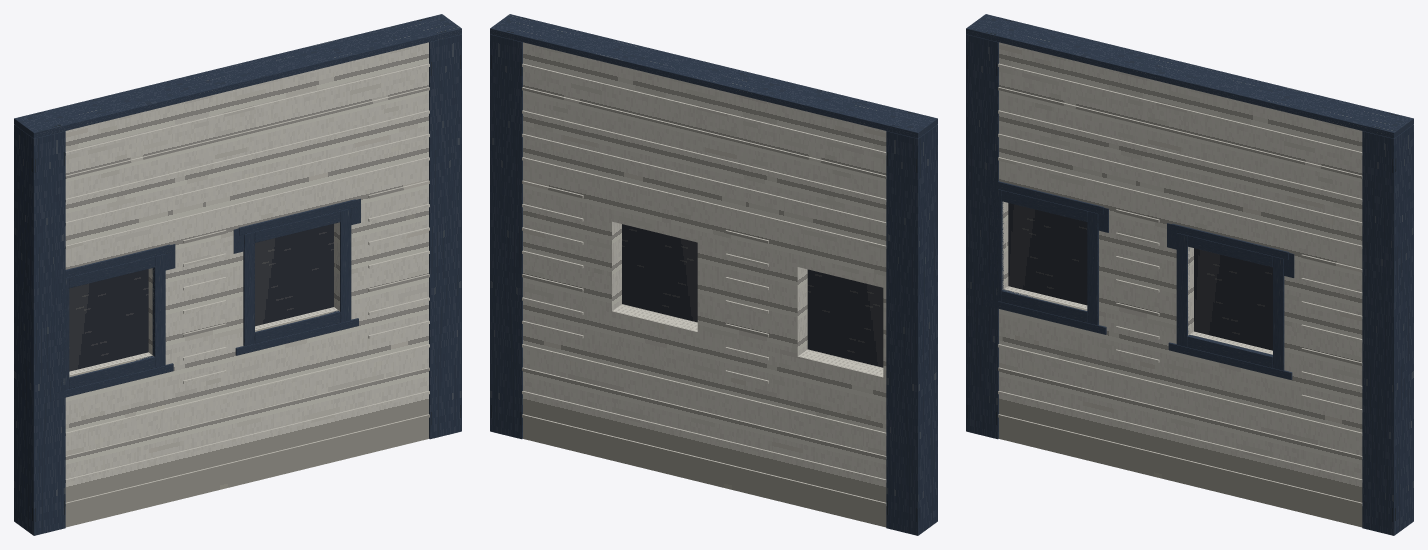
The model's file is house_05_wall_window.glb.
3 views of the same model, side by side, from view 1: azimuth 30°, elevation 25°; view 2: azimuth 150°, elevation 25°; view 3: azimuth 330°, elevation 25° (orthographic).
Visible parts, largest first — view 1: house_05_wall_window; view 2: house_05_wall_window; view 3: house_05_wall_window.
Part boxes in pixels (x1,y1,x2,y2): house_05_wall_window: (14,14,461,535); house_05_wall_window: (490,14,937,535); house_05_wall_window: (966,14,1413,535).
Bounding box in the file's own units: 3 × 2.7 × 0.24.
3 materials, 3 textured.
